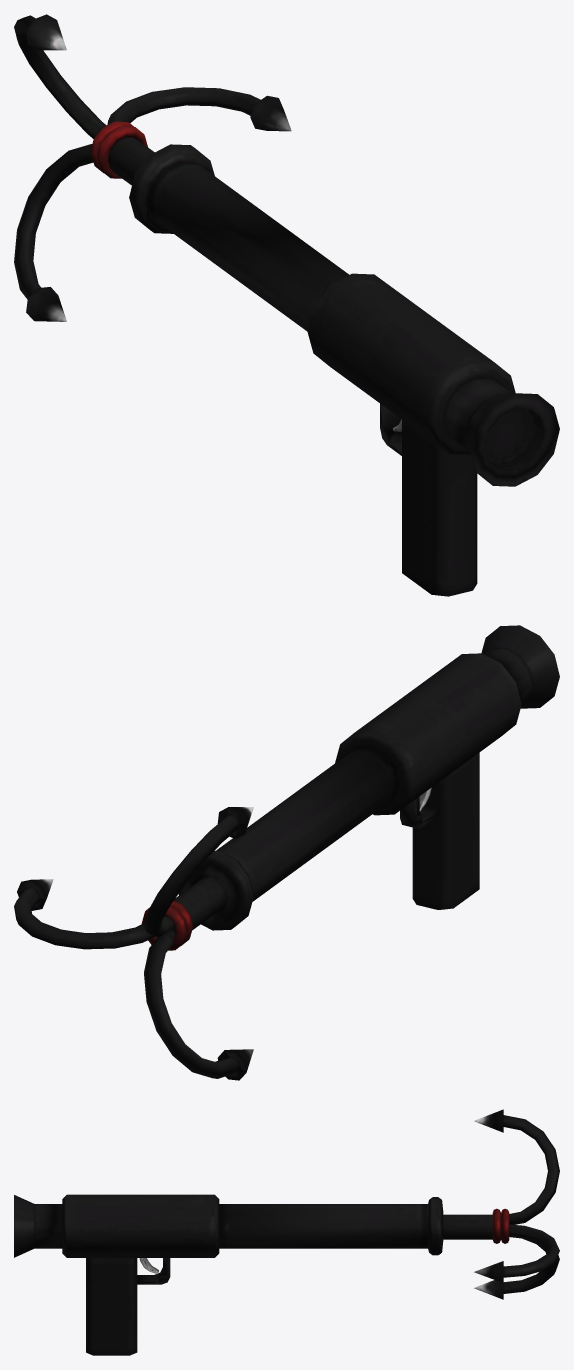
File: GrappleGun.obj
3 renders of one model, top to bottom at view 1: azimuth 30°, elevation 25°; view 2: azimuth 150°, elevation 25°; view 3: azimuth 270°, elevation 25°, orthographic. The views are drawn at different scales.
Visible parts, largest first — view 1: Grapplegun1; view 2: Grapplegun1; view 3: Grapplegun1.
Boxes of the visible parts, <box> form: Grapplegun1: <box>14,14,559,596</box>; Grapplegun1: <box>14,625,559,1080</box>; Grapplegun1: <box>14,1109,559,1355</box>.
Size of the model in its own units: 0.899 by 1.16 by 2.68.
Materials: 1 (1 with a texture image).
